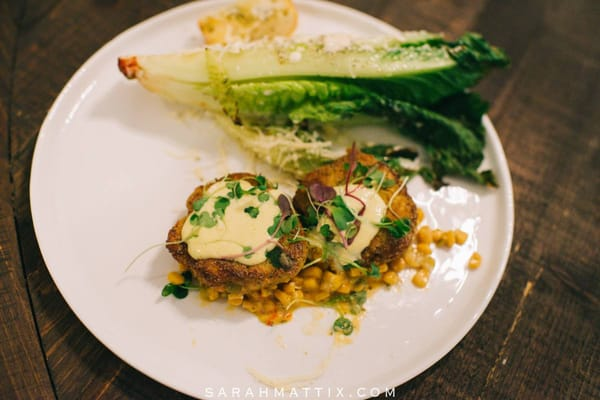sushi: (36, 11, 516, 391)
